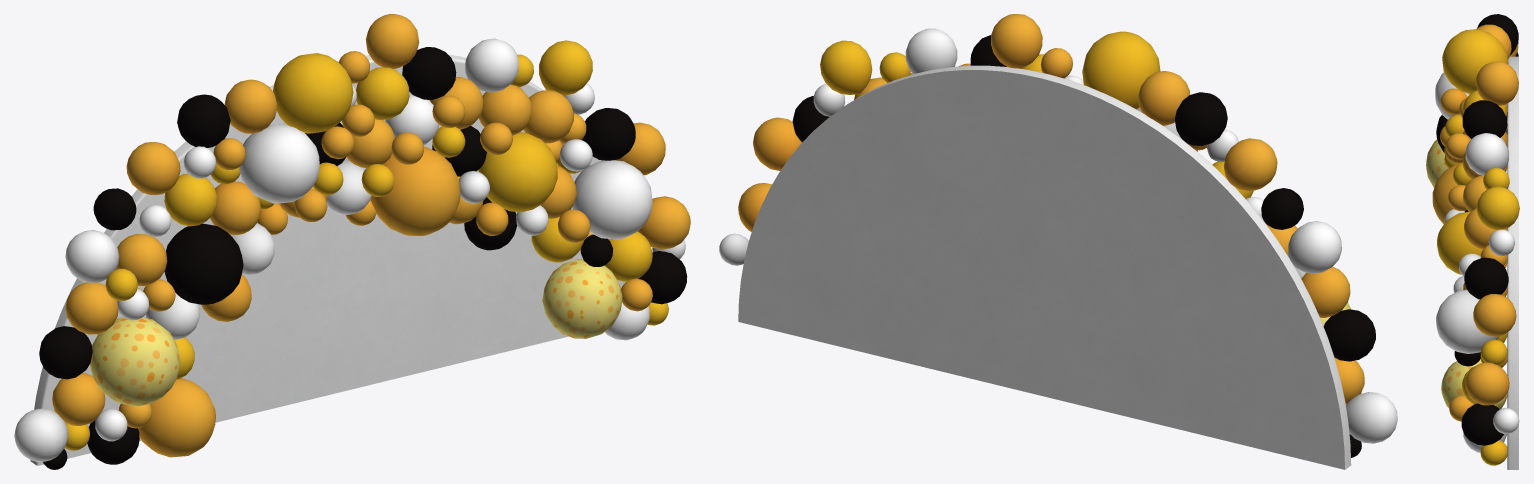
The model's file is PartyBalloons03_GR7_1.FBX.
3 views of the same model, side by side, from view 1: azimuth 30°, elevation 25°; view 2: azimuth 150°, elevation 25°; view 3: azimuth 270°, elevation 25° (orthographic). The views are drawn at different scales.
Parts seen in each view (by area): view 1: PartyBalloons03_GR7_1; view 2: PartyBalloons03_GR7_1; view 3: PartyBalloons03_GR7_1.
Boxes of the visible parts, x1,y1,x2,y2 form: PartyBalloons03_GR7_1: (14,14,690,469); PartyBalloons03_GR7_1: (719,14,1397,469); PartyBalloons03_GR7_1: (1426,14,1519,469).
Size of what is drawn, in the model's own units: 5.46 by 2.85 by 0.8086.
